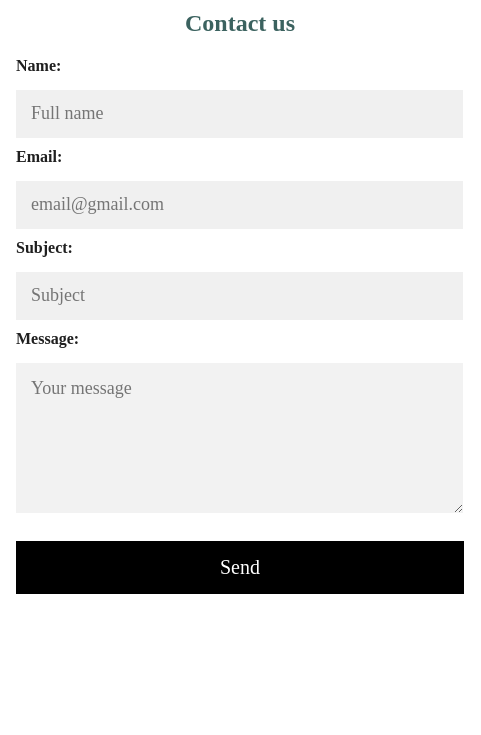
Scenario: After send btn is clicked, check elements displayed
Note: 2 Send btn clicked
Click the button "Send" at (240, 567), box x1=16 y1=541 x2=464 y2=594
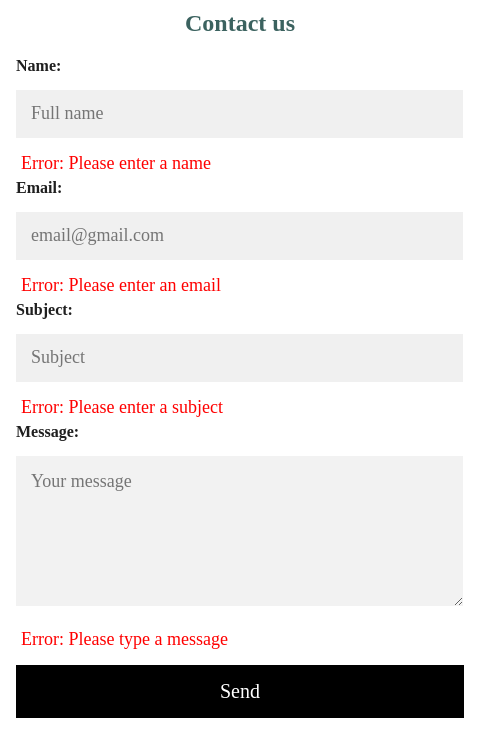
Expected: the text with test id "error-msg-name" reads "Error: Please enter a name", x1=21 y1=153 x2=211 y2=173
